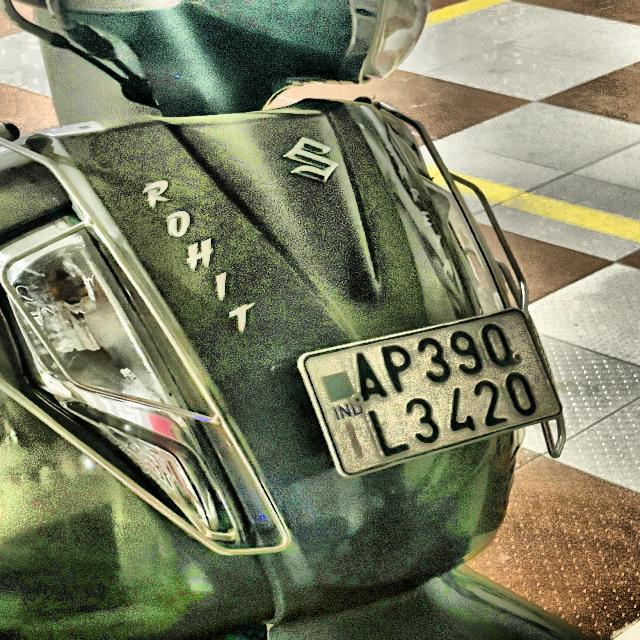license-plate: (301, 308, 565, 475)
